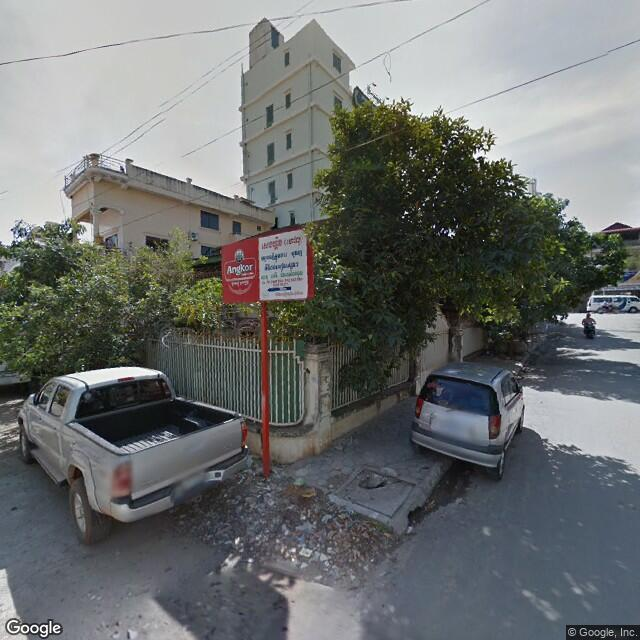litter: (287, 479, 317, 499), (315, 510, 333, 525), (297, 544, 313, 556)
